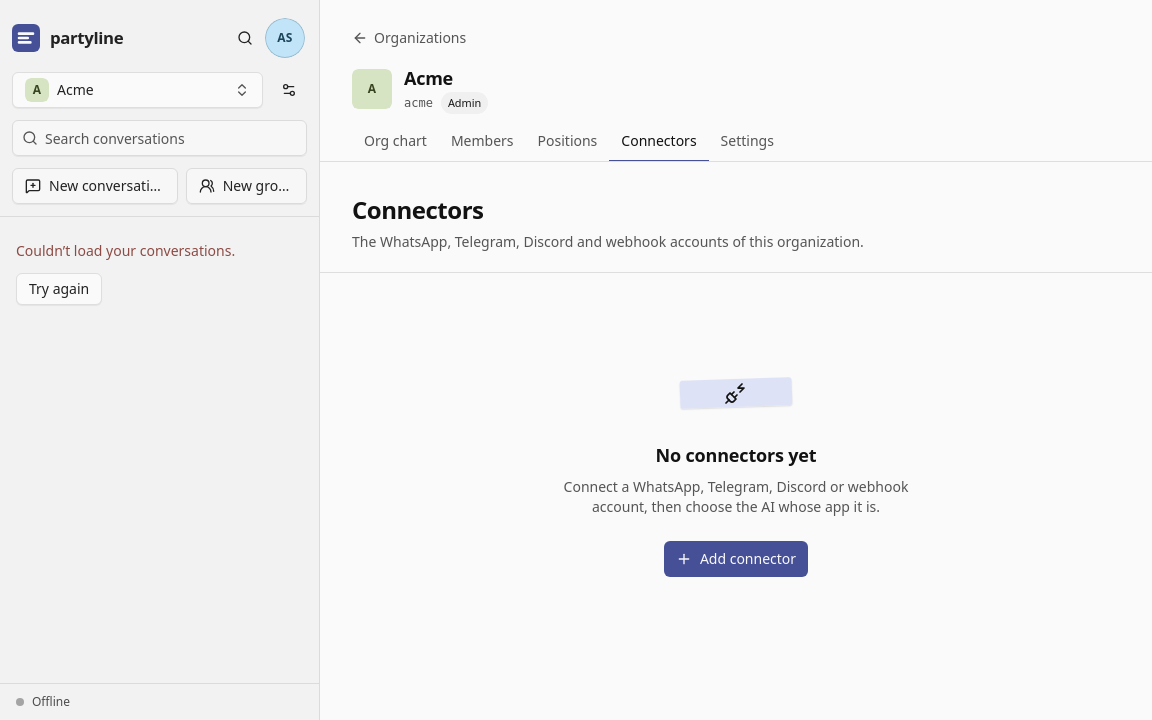
adding a connection to an organization (ORG-03) › asks for the organization among those the viewer administers, never one they only belong to
This screenshot has width=1152, height=720.
Click the button "Add connector".
click(736, 559)  # box [664,541,808,577]
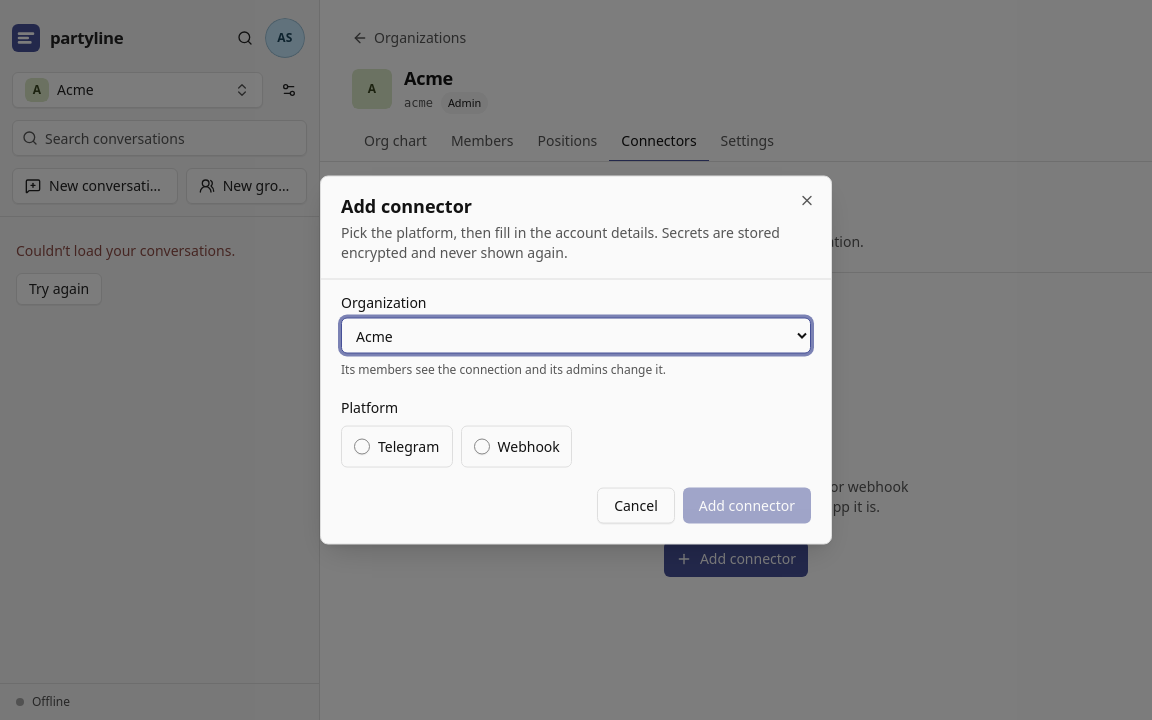
Check: the dropdown labelled "Organization" shows "Acme", box [341,318,811,354]
